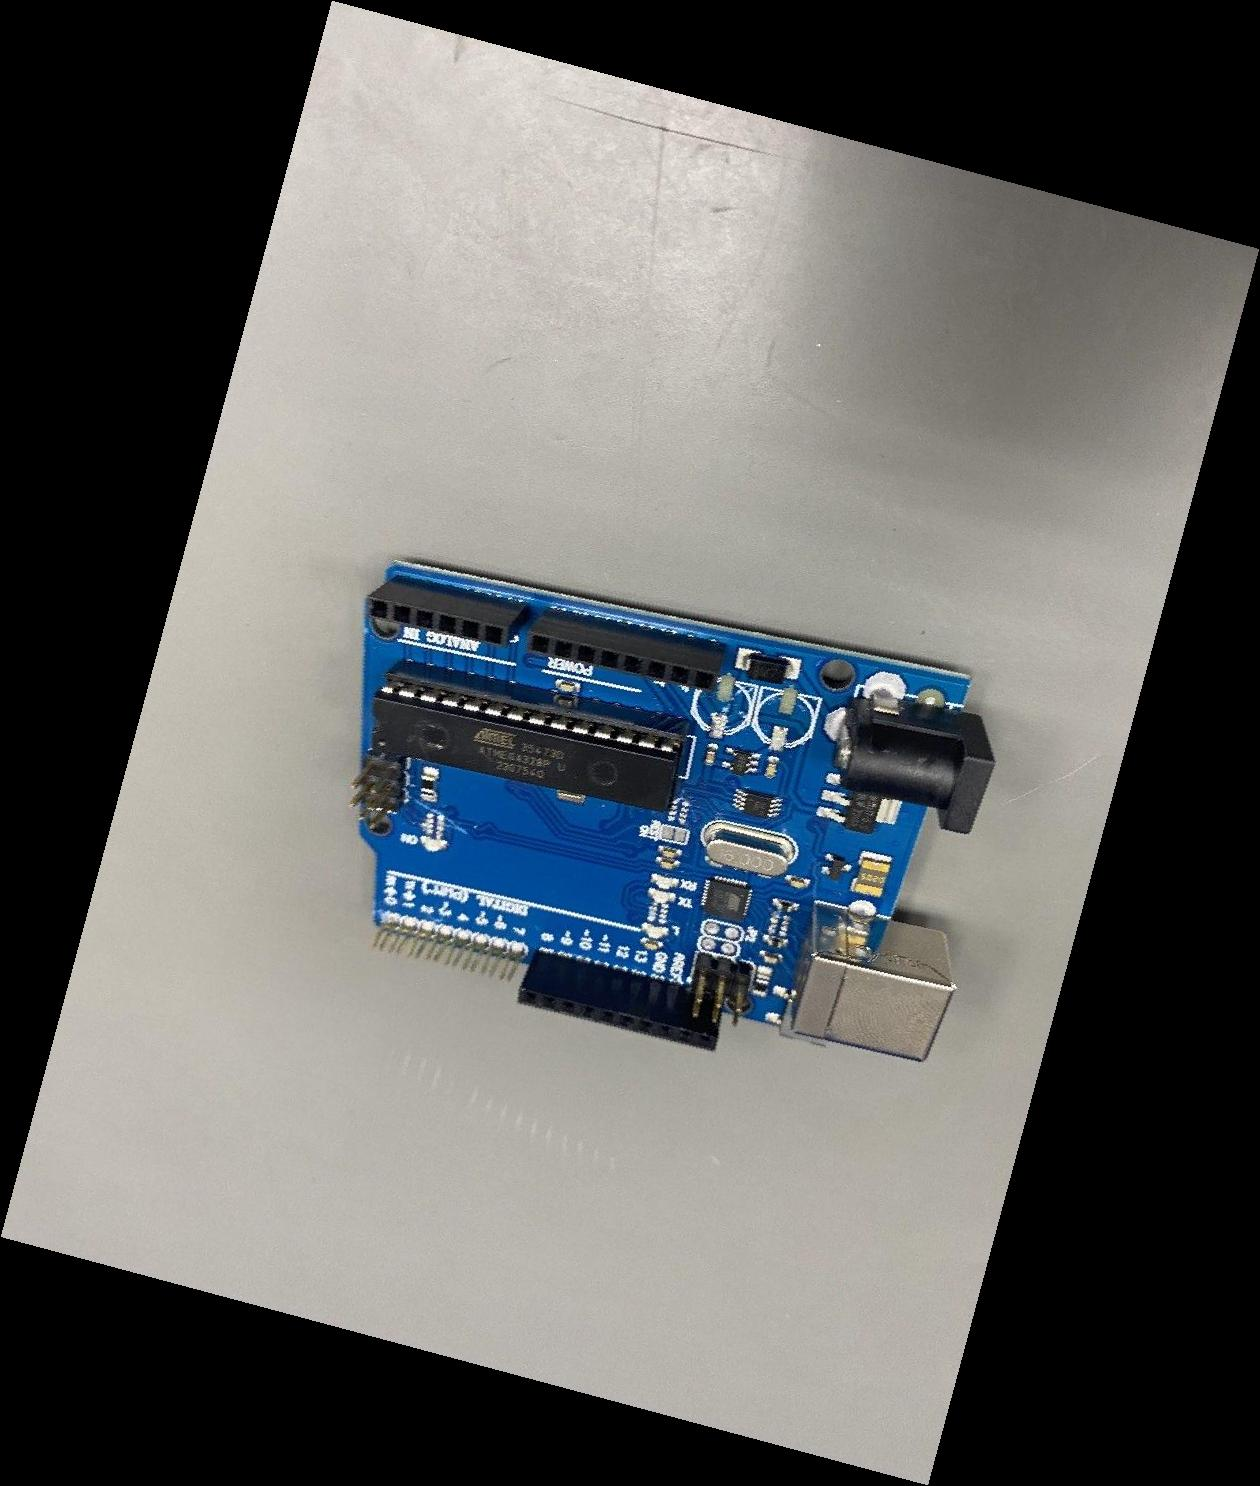ATmega328 chip: (370, 659, 689, 814)
Arduino board: (349, 562, 996, 1062)
USB: (789, 902, 956, 1064)
pins: (519, 948, 722, 1051), (526, 605, 727, 690), (368, 575, 531, 647)
